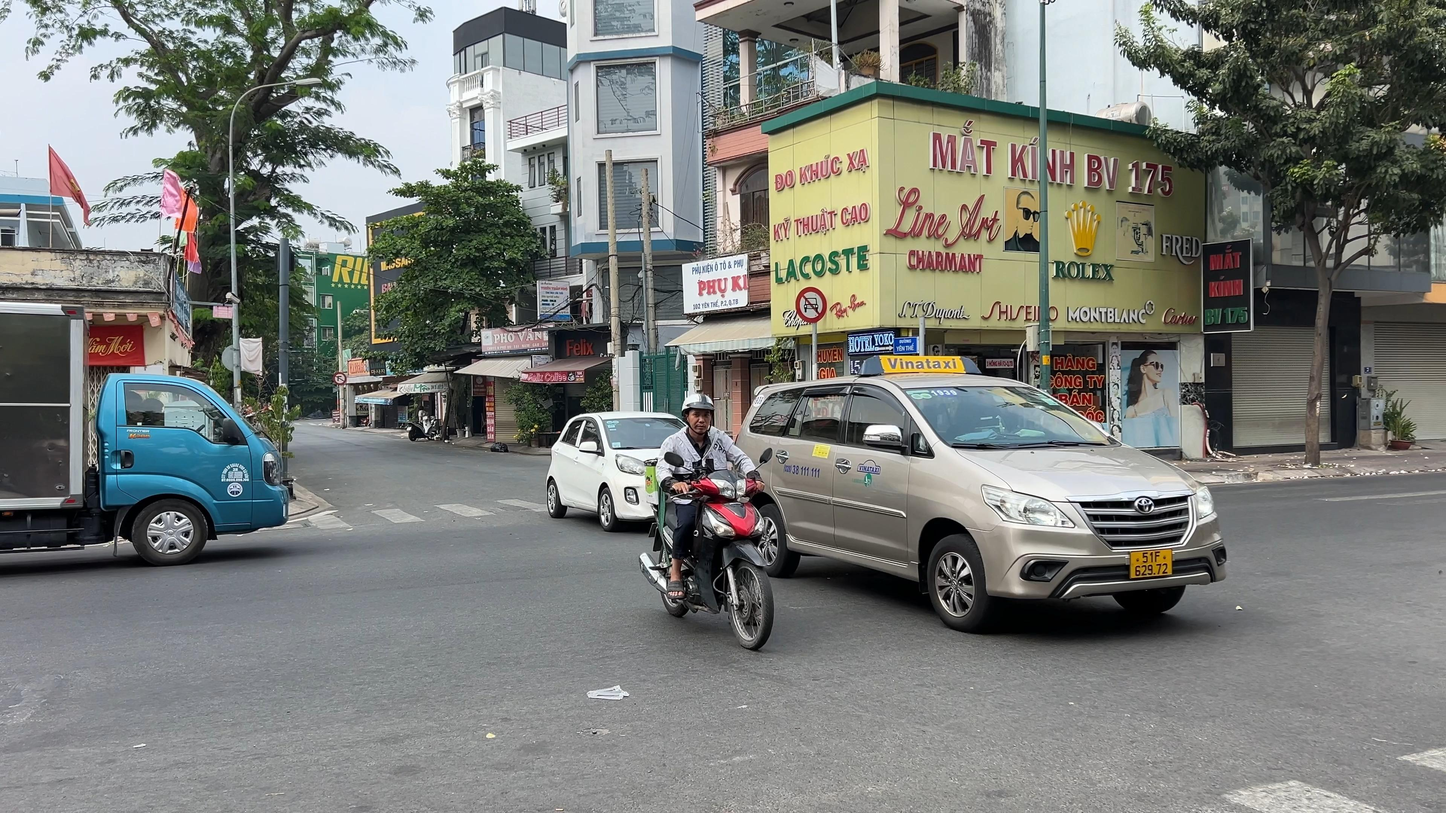driver: (639, 393, 774, 650)
helmet: (681, 394, 715, 436)
